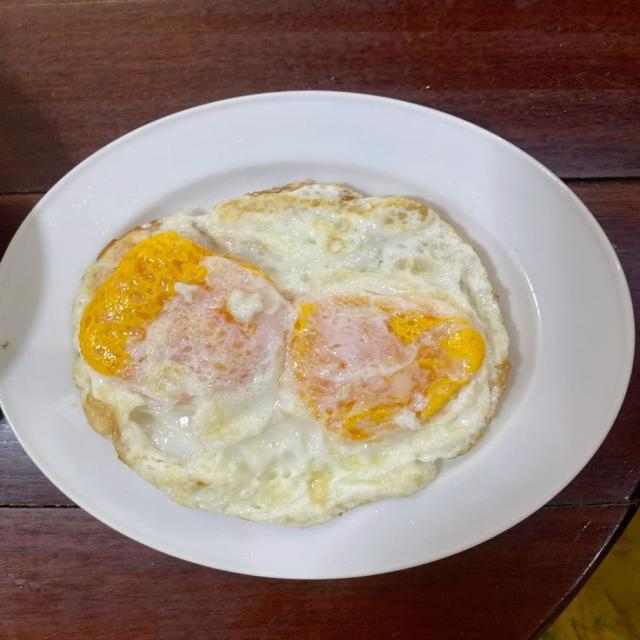fryed egg: (74, 184, 507, 525)
